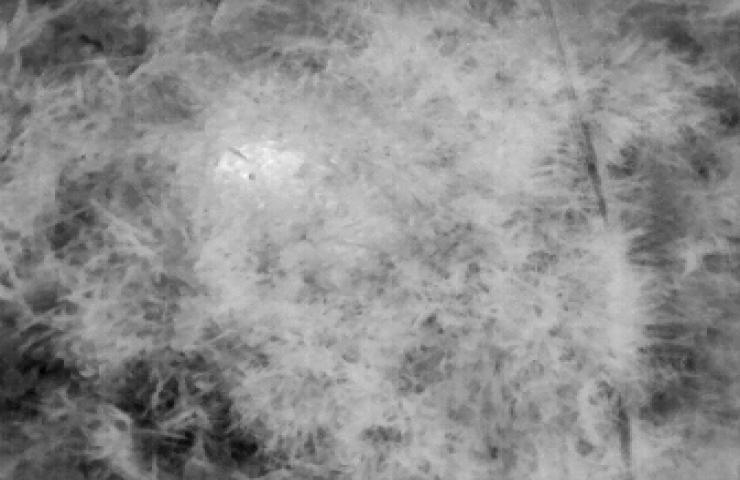landmines: (215, 140, 327, 206)
